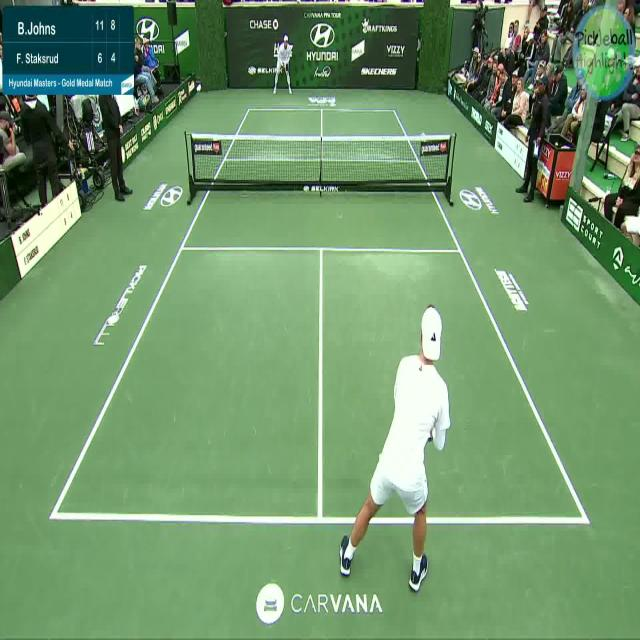Court: (48, 110, 586, 522)
